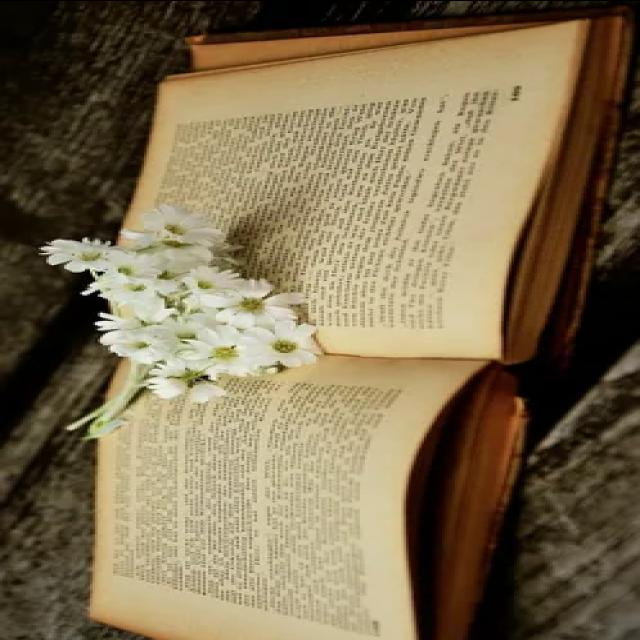book: (52, 0, 632, 640)
